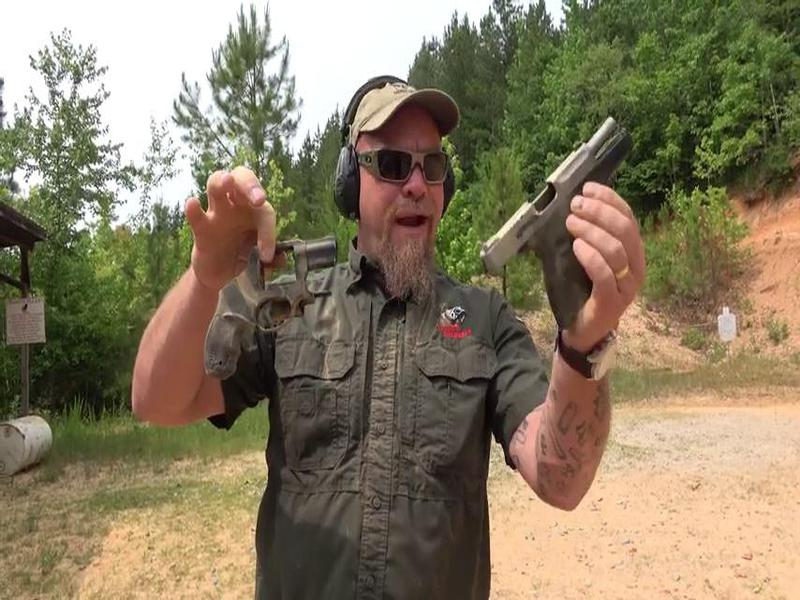Pistola: (471, 104, 642, 358)
Revolver: (199, 202, 343, 376)
